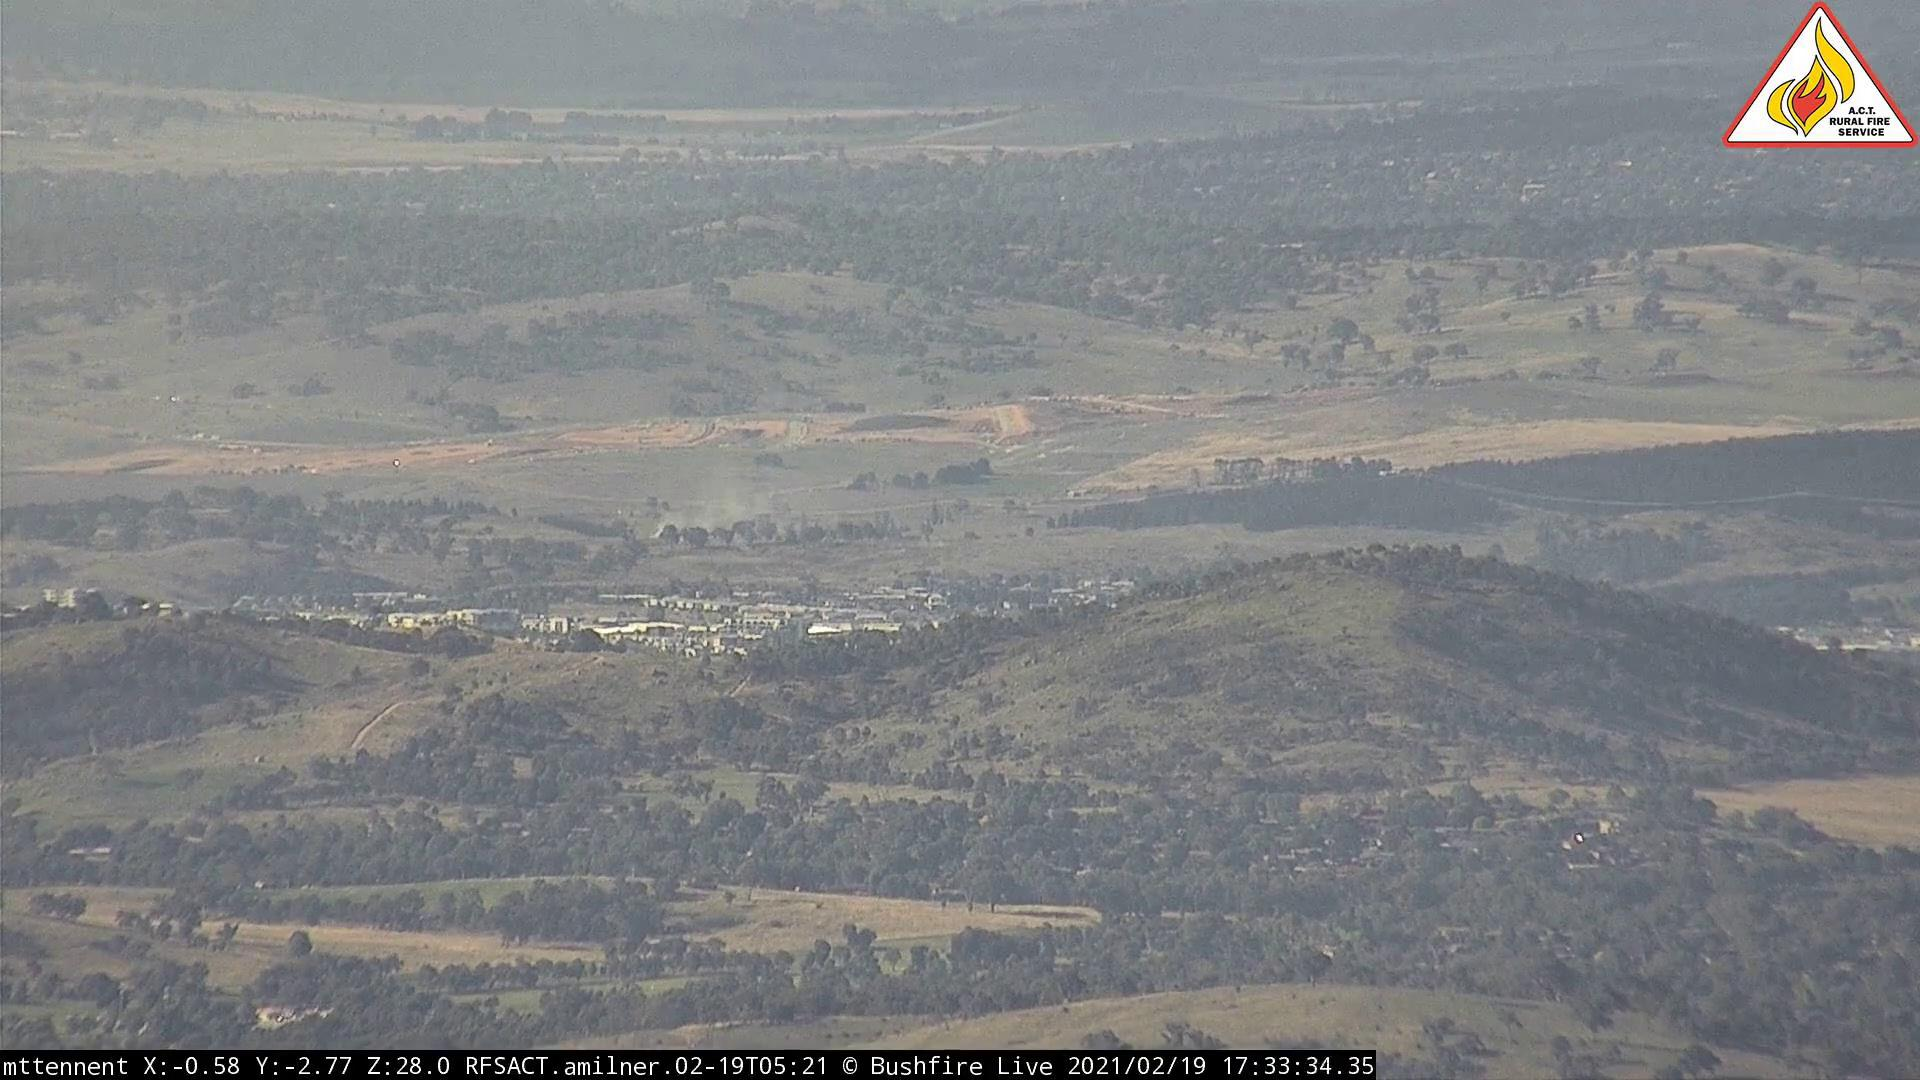instance_salient_object: (650, 502, 707, 541)
